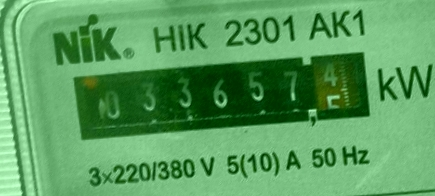0: (101, 84, 125, 123)
3: (138, 77, 160, 114), (174, 74, 195, 110)
4: (321, 58, 342, 89)
5: (244, 66, 269, 104)
6: (208, 74, 231, 110)
7: (281, 66, 302, 103)
screen: (61, 43, 380, 148)
